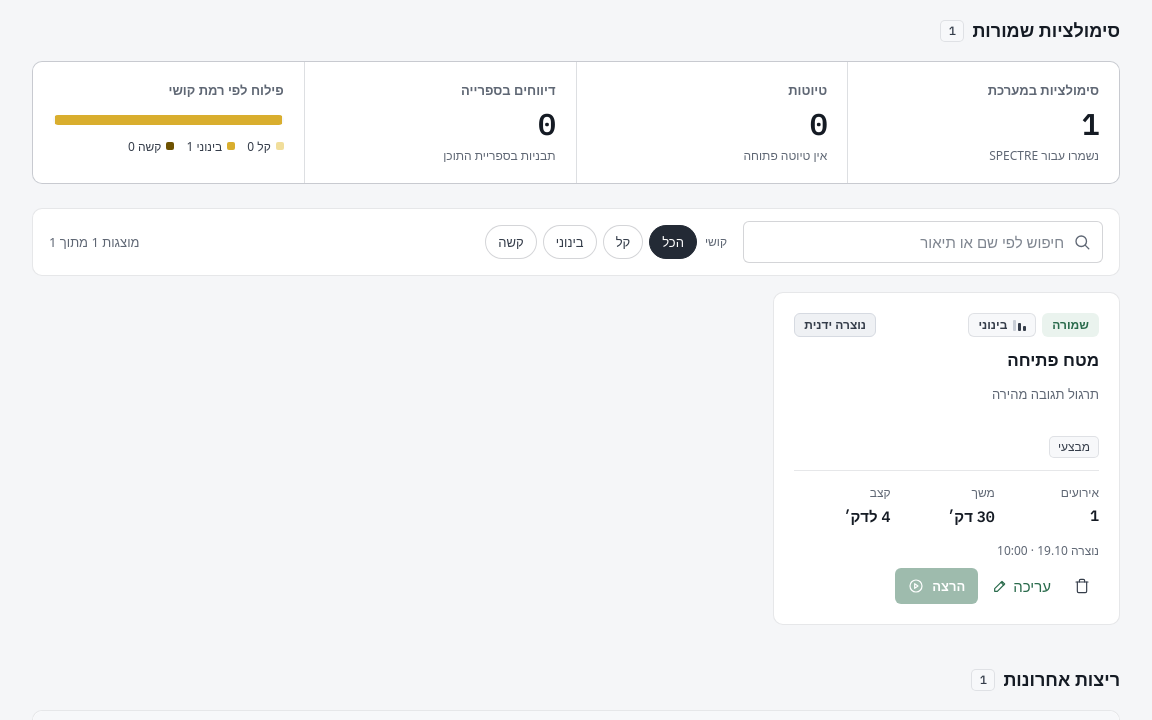
Simulation Flow - Mockup Alignment › opens the simulation summary drawer from a card
The width and height of the screenshot is (1152, 720).
(page scrolled)
Click the button "מטח פתיחה" at (1053, 360), box [1007,349,1099,372]
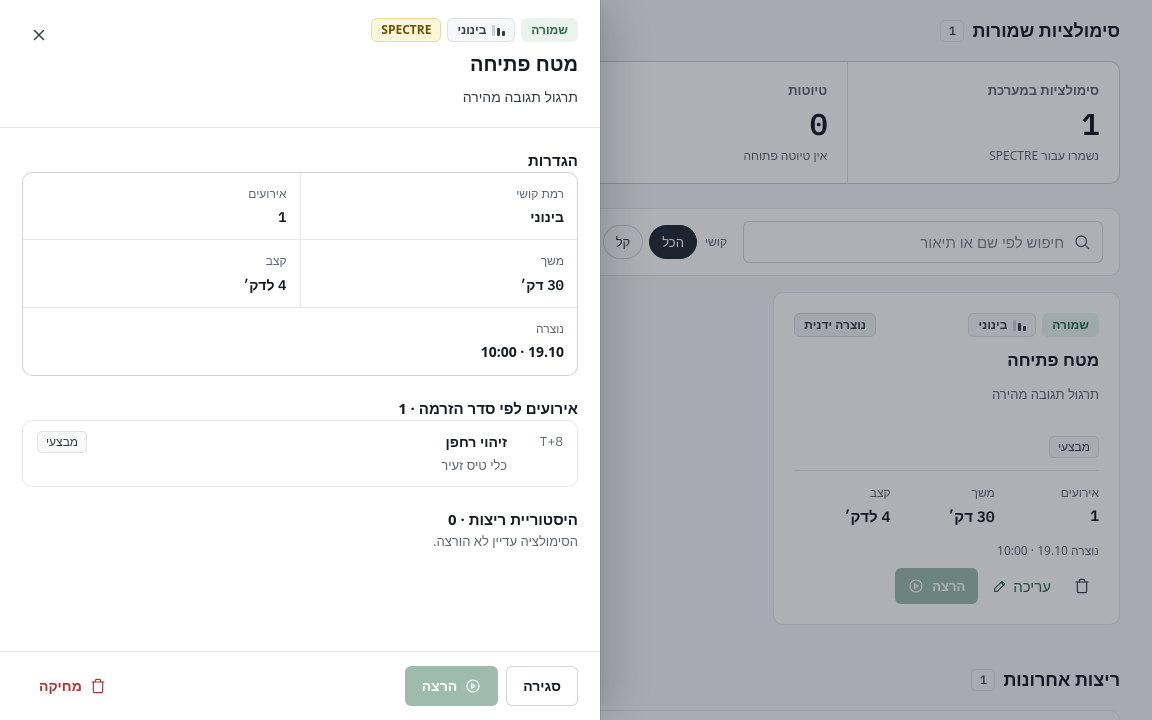
Now the dialog "מטח פתיחה" shows "אירועים לפי סדר הזרמה · 1", box [0,0,600,719]
Now the dialog "מטח פתיחה" shows "T+8", box [0,0,600,719]
Now the dialog "מטח פתיחה" shows "30 דק׳", box [0,0,600,719]
